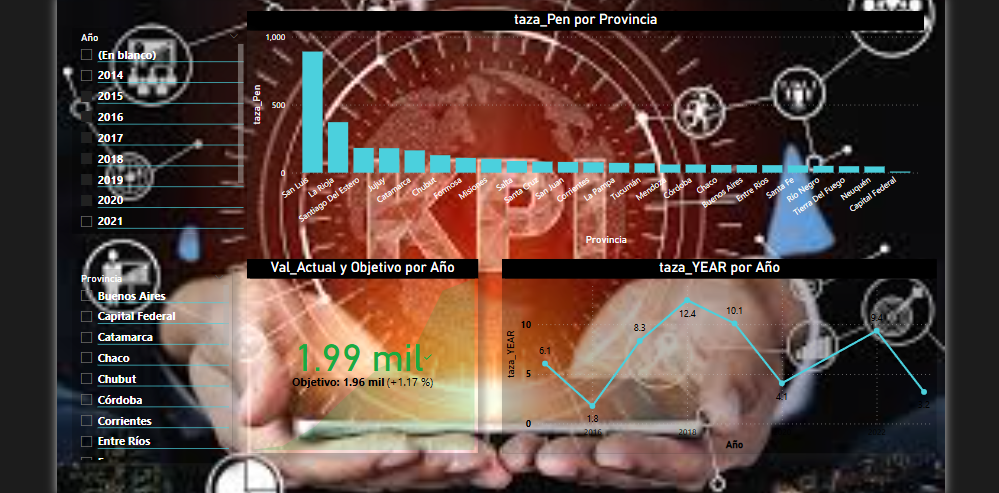

What the dashboard file says about the page in this screenshot:
{"tool":"powerbi","page":{"name":"KPI","canvas":[1280,720],"ordinal":3},"visuals":[{"type":"clusteredColumnChart","fields":{"Category":["Penetración-poblacion.Provincia"],"Y":["Penetración-poblacion.taza_Pen"]},"box":[273.3,22.2,975.1,341.8],"z":0},{"type":"slicer","fields":{"Values":["Penetración-poblacion.Año"]},"box":[21.2,45.4,252.1,296.5],"z":1000},{"type":"slicer","fields":{"Values":["Penetración-poblacion.Provincia"]},"box":[21.2,379.2,230.9,280.3],"z":2000},{"type":"lineChart","fields":{"Y":["Penetración-poblacion.taza_YEAR"],"Category":["Penetración-poblacion.Año"]},"box":[772.4,379.2,494.1,280.3],"z":3000},{"type":"kpi","fields":{"Indicator":["Penetración-poblacion.Val_Actual"],"Goal":["Penetración-poblacion.Objetivo"],"TrendLine":["Penetración-poblacion.Año"]},"box":[273.3,379.2,499.2,280.3],"z":3001}]}

Visuals, with their boxes on the page's 1280x720 design canvas (x1, y1, x2, y2). These are canvas units, not pixel positions in the 999x493 screenshot, which may show the page scaled, cropped or inside an application window:
clusteredColumnChart - Penetración-poblacion.Provincia x Penetración-poblacion.taza_Pen: bbox(273, 22, 1248, 364)
slicer - Penetración-poblacion.Año: bbox(21, 45, 273, 342)
slicer - Penetración-poblacion.Provincia: bbox(21, 379, 252, 660)
lineChart - Penetración-poblacion.taza_YEAR x Penetración-poblacion.Año: bbox(772, 379, 1266, 660)
kpi - Penetración-poblacion.Val_Actual x Penetración-poblacion.Objetivo: bbox(273, 379, 772, 660)
